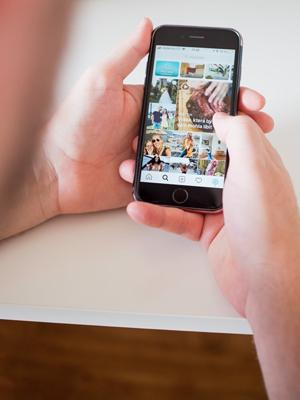Mobile Phone: (131, 23, 243, 214)
